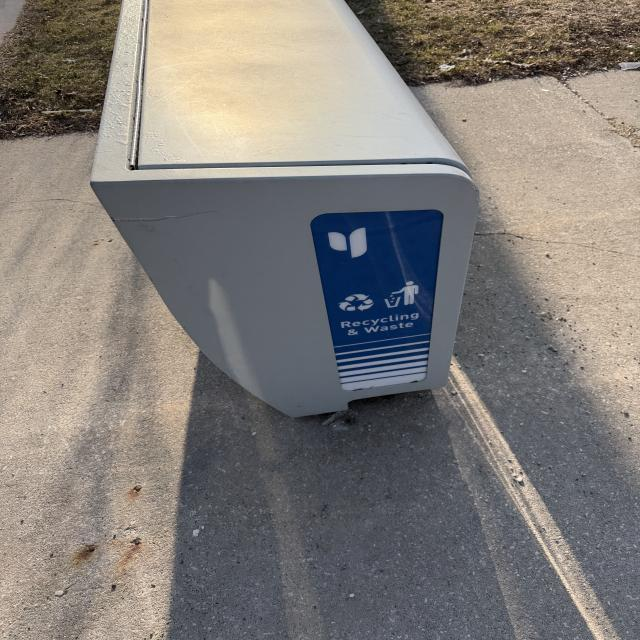Dustbin: (90, 2, 483, 421)
